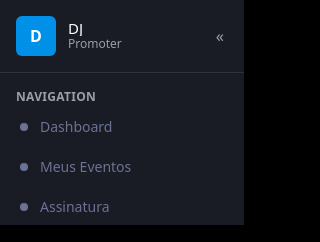
Sidebar › GIVEN the collapse toggle WHEN clicked THEN nav labels are hidden
Check: the text "Meus Eventos" is shown, box [40, 157, 131, 177]
Click the button named "recolher menu" at [220, 36], box [212, 20, 228, 52]
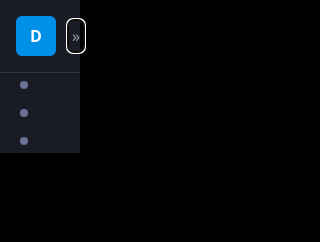
Check: the text "Meus Eventos" is gone
